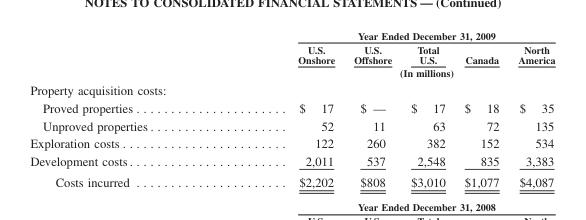table: (29, 29, 554, 189)
table column: (29, 29, 224, 189), (224, 29, 343, 189), (343, 29, 400, 189), (400, 29, 454, 189), (454, 29, 508, 189), (508, 29, 554, 189)
table column header: (29, 29, 554, 80)
table projected row header: (29, 80, 554, 98)
table row: (29, 41, 554, 65), (29, 151, 554, 171), (29, 80, 554, 98), (29, 98, 554, 116), (29, 116, 554, 134), (29, 171, 554, 189), (29, 134, 554, 151), (29, 65, 554, 80), (29, 29, 554, 41)
table spanning cell: (224, 65, 554, 80), (224, 29, 554, 41)
